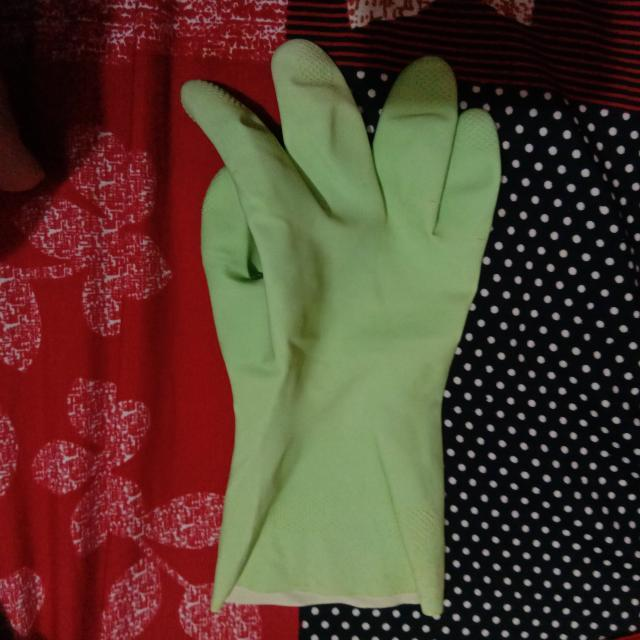gloved_hand: (169, 34, 511, 622)
